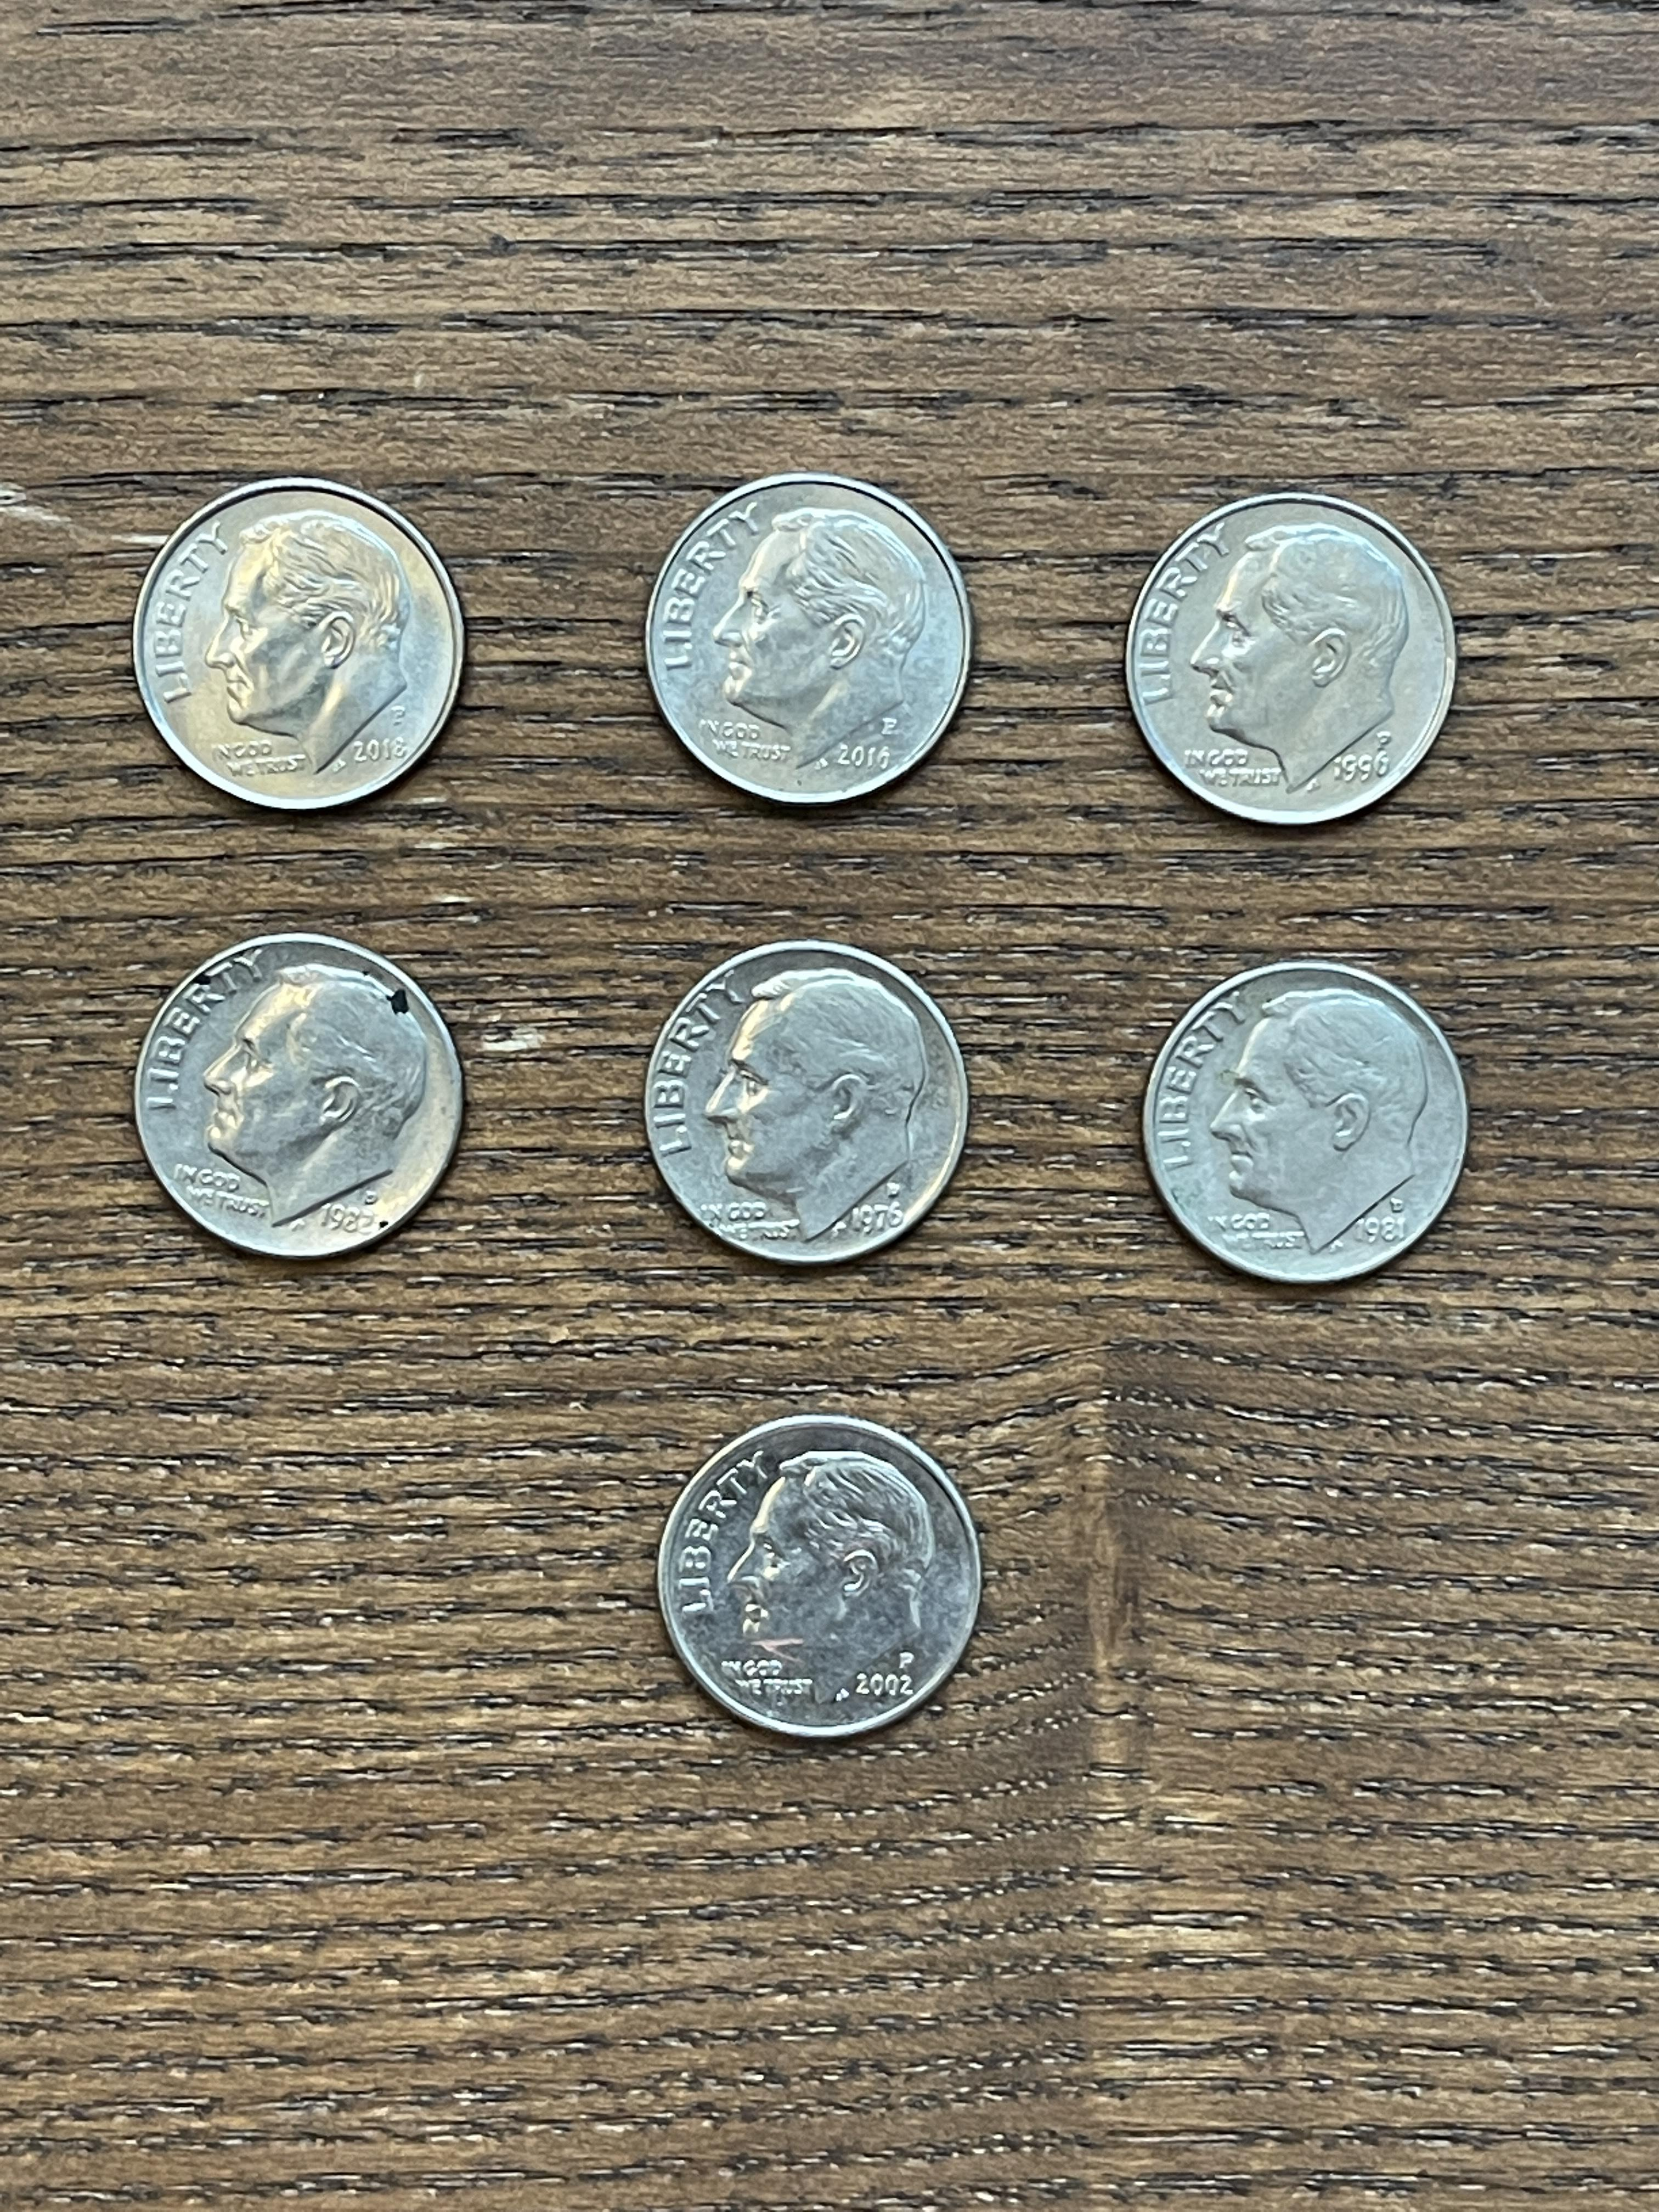Dime: (1117, 489, 1464, 831), (129, 474, 472, 817), (127, 930, 472, 1264), (641, 467, 974, 808), (1136, 954, 1474, 1289), (638, 937, 974, 1268), (652, 1409, 985, 1742)
